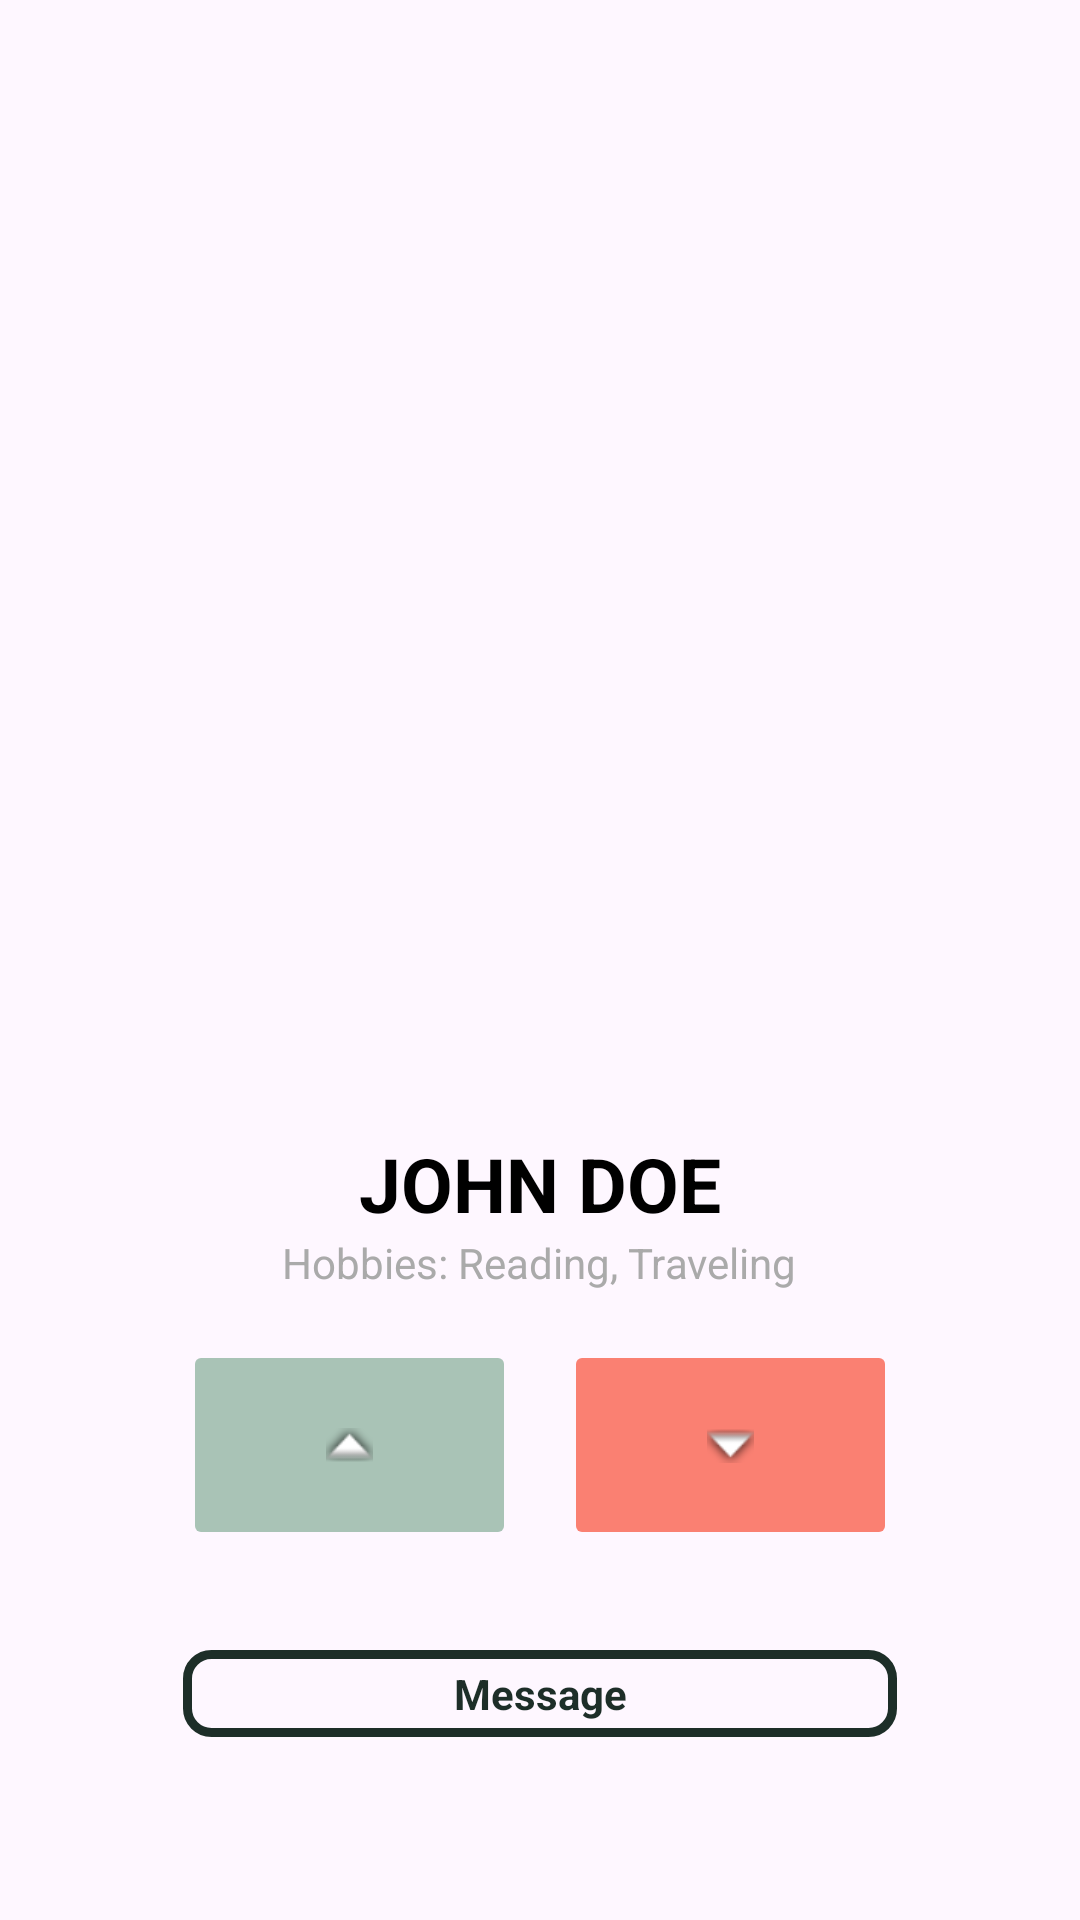

Point at icon controls on the screen. Image size 1080*1920, points as (x=x, y=y).
Move Down: (x=730, y=1445)
Move Up: (x=349, y=1445)
